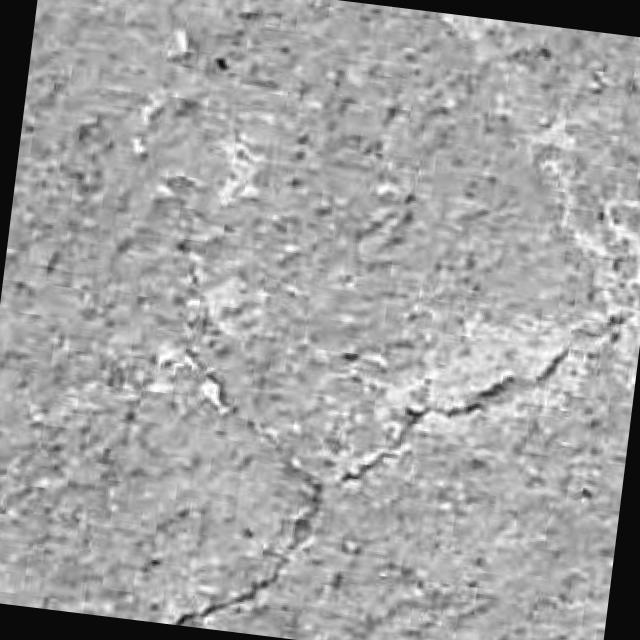crack: (337, 313, 628, 485), (172, 463, 324, 626)
